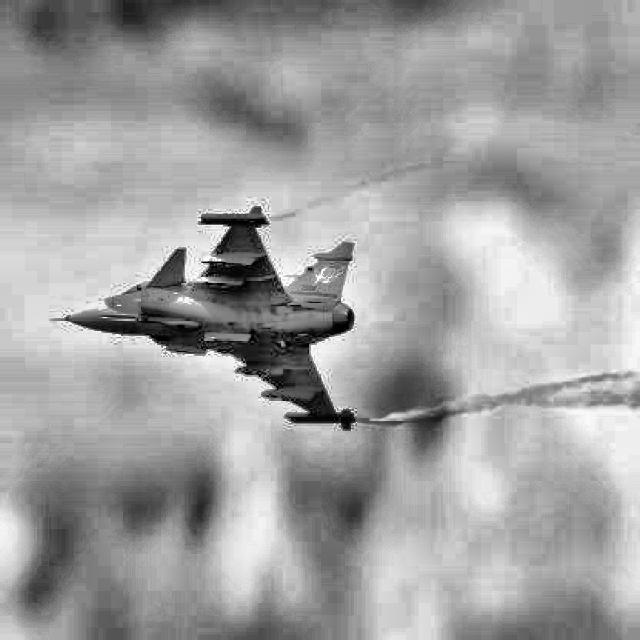JAS39: (51, 206, 357, 431)
